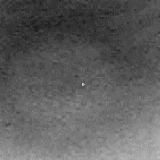Target: (80, 82, 85, 87)
